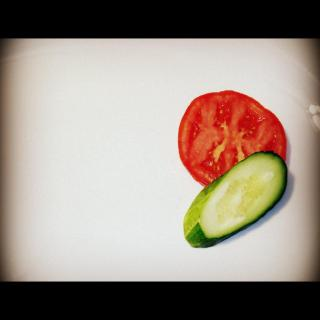tomato: (176, 95, 284, 186)
